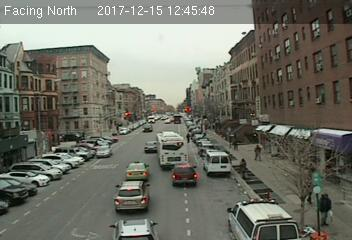bus: (155, 131, 188, 168)
car: (114, 179, 152, 212), (109, 217, 159, 240), (171, 163, 199, 186), (124, 161, 151, 181), (96, 145, 112, 158), (144, 141, 158, 154), (142, 123, 153, 133)
pedestrian: (317, 193, 333, 227), (238, 156, 248, 180), (253, 144, 263, 163)
police: (226, 197, 303, 240)
truck: (203, 149, 231, 177)
ups: (173, 115, 182, 125)
